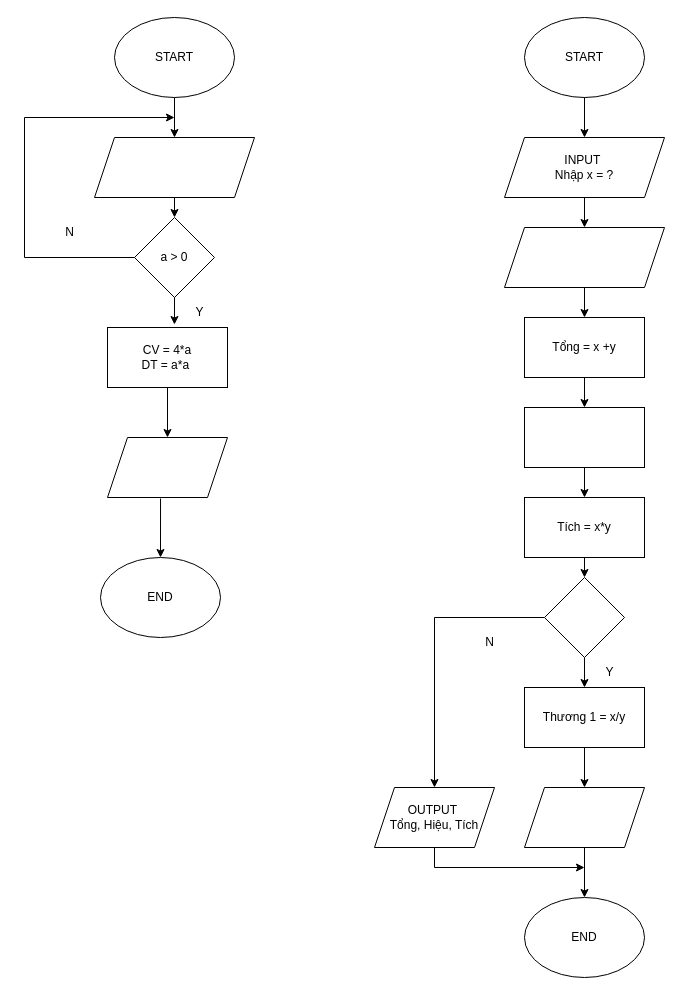
The diagram is 682 pixels wide and 995 high, and some of its shapes have lost their labels. Each missing label, with the centre of its shape:
"Hiệu = x - y" belongs at point (584, 437).
"INPUT cạnh hình vuông a = ?" belongs at point (174, 167).
"INPUT Nhập y = ?" belongs at point (584, 257).
"OUTPUT CV, DT" belongs at point (167, 467).
"OUTPUT Tổng, Hiệu, Tích Thương" belongs at point (584, 817).
"y not 0" belongs at point (584, 617).
